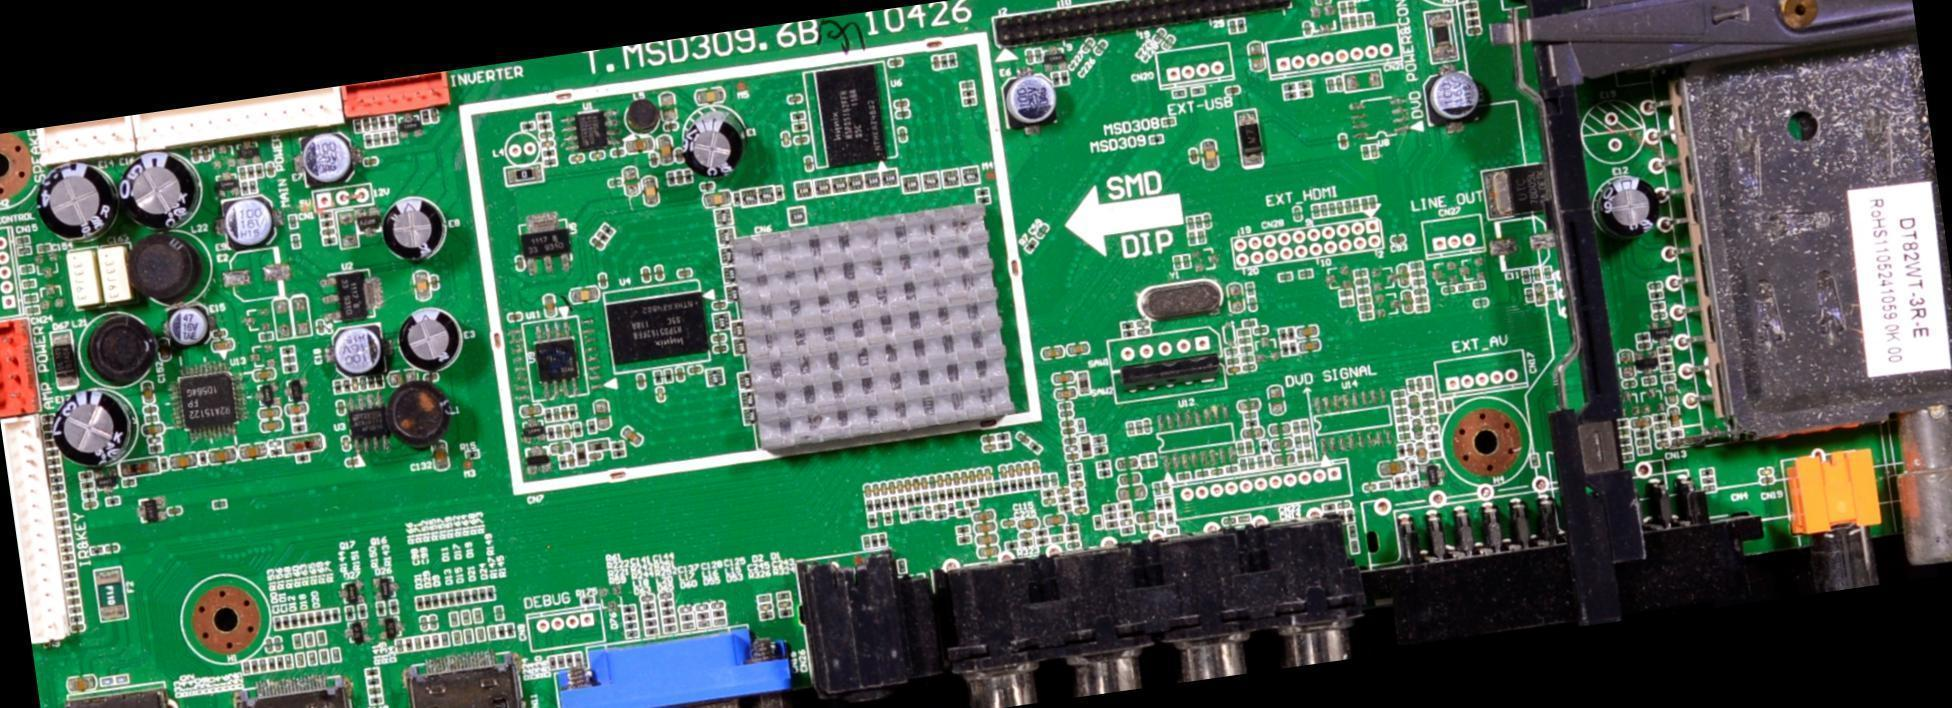Capacitor: (410, 268, 431, 302), (64, 675, 94, 694), (432, 442, 449, 474), (640, 175, 659, 205), (207, 447, 236, 465), (239, 441, 266, 460), (694, 87, 724, 105), (572, 285, 598, 303), (703, 190, 731, 208), (543, 294, 558, 320), (252, 367, 275, 383), (656, 136, 670, 163), (170, 454, 195, 468), (211, 339, 233, 353), (140, 379, 154, 402), (255, 407, 281, 419), (1054, 385, 1075, 400), (1041, 346, 1062, 359), (976, 545, 997, 559), (284, 403, 306, 415), (258, 420, 281, 432), (1298, 325, 1317, 339), (1066, 345, 1088, 356), (1042, 517, 1064, 528), (143, 423, 163, 436), (1015, 530, 1034, 541), (803, 155, 815, 172), (426, 613, 438, 630), (1301, 340, 1318, 351), (1053, 374, 1072, 384), (975, 512, 993, 521), (1020, 519, 1035, 531), (418, 615, 428, 633), (786, 95, 802, 106), (931, 474, 942, 490), (973, 524, 994, 533), (264, 636, 274, 653), (654, 264, 665, 279), (899, 126, 909, 142), (999, 521, 1015, 531), (273, 636, 283, 652), (694, 603, 710, 613), (888, 57, 901, 68), (780, 131, 789, 148), (862, 483, 870, 500), (976, 536, 994, 545), (895, 98, 910, 108), (597, 274, 607, 289), (1073, 507, 1088, 516), (639, 593, 653, 604), (897, 109, 911, 119), (870, 483, 880, 496), (1030, 462, 1039, 475), (929, 56, 939, 70), (588, 152, 603, 161), (640, 267, 649, 282), (776, 600, 791, 609), (997, 467, 1007, 479), (1042, 497, 1055, 506), (710, 601, 722, 611), (568, 155, 581, 164), (910, 478, 919, 491), (941, 473, 950, 487), (984, 468, 992, 481), (894, 481, 902, 494), (1013, 464, 1022, 477), (679, 605, 691, 613), (903, 479, 910, 493), (757, 603, 771, 611), (918, 477, 925, 489), (966, 470, 974, 483), (889, 482, 896, 494), (951, 473, 959, 485), (1022, 464, 1030, 477), (975, 470, 983, 480), (927, 477, 934, 489), (959, 472, 965, 484), (1058, 488, 1070, 494), (660, 592, 672, 599), (1008, 465, 1014, 476), (1069, 482, 1081, 488), (881, 484, 886, 495)
Connector: (0, 413, 81, 650), (991, 0, 1296, 52), (133, 86, 344, 153), (344, 71, 454, 120), (35, 117, 129, 167), (0, 316, 40, 420)
IC: (603, 279, 710, 374), (803, 59, 896, 168), (519, 315, 588, 402), (1150, 404, 1236, 473), (173, 364, 247, 444), (1312, 388, 1395, 455), (323, 267, 384, 326), (517, 217, 572, 273), (348, 394, 396, 458), (561, 107, 617, 152)
Resistor: (684, 165, 693, 189), (953, 534, 972, 545), (89, 545, 104, 557), (535, 110, 552, 122), (961, 96, 978, 107), (1280, 81, 1297, 92), (789, 110, 804, 122), (790, 121, 805, 133), (665, 172, 677, 187), (355, 603, 367, 619), (79, 480, 95, 491), (579, 595, 595, 606), (757, 611, 773, 622), (778, 609, 795, 619), (280, 345, 294, 357), (452, 591, 464, 605), (275, 657, 287, 671), (946, 53, 958, 67), (80, 490, 95, 501), (493, 606, 504, 621), (621, 604, 636, 615), (1282, 90, 1299, 100), (1118, 321, 1134, 331), (912, 492, 922, 508), (475, 587, 486, 603), (953, 525, 970, 535), (1098, 465, 1111, 478), (427, 596, 439, 609), (543, 157, 556, 168), (292, 423, 306, 434), (1092, 434, 1106, 445), (296, 613, 307, 627), (460, 590, 472, 603), (321, 610, 332, 624), (485, 587, 497, 601), (504, 624, 515, 637), (975, 196, 990, 206), (282, 363, 297, 373), (291, 414, 306, 424), (78, 471, 93, 481), (104, 497, 119, 507), (388, 599, 398, 614), (271, 616, 281, 631), (877, 533, 886, 548), (660, 609, 675, 618), (622, 629, 637, 639), (159, 456, 168, 472), (1118, 329, 1134, 337), (321, 236, 334, 247), (567, 407, 578, 419), (1069, 470, 1082, 482), (1163, 500, 1174, 513), (247, 180, 257, 194), (974, 187, 987, 197), (196, 453, 206, 466), (295, 454, 309, 464), (1067, 463, 1080, 473), (888, 496, 898, 510), (867, 514, 876, 527), (313, 611, 323, 625), (1102, 503, 1116, 513), (421, 637, 431, 651), (367, 676, 381, 686), (367, 685, 381, 696), (420, 111, 430, 124), (543, 407, 552, 422), (558, 456, 566, 470), (1040, 489, 1054, 498), (289, 613, 298, 628), (305, 612, 314, 627), (1114, 503, 1129, 511), (364, 667, 379, 676), (386, 114, 395, 129), (368, 697, 384, 706), (353, 120, 362, 134), (538, 120, 550, 130), (1297, 80, 1310, 90), (149, 445, 162, 456), (610, 440, 622, 450), (1093, 444, 1105, 454), (863, 499, 873, 512), (445, 592, 455, 605), (1064, 524, 1077, 534), (641, 611, 654, 621), (622, 614, 635, 623), (1096, 461, 1112, 468), (905, 495, 913, 511), (519, 122, 533, 131), (239, 183, 248, 197), (961, 88, 975, 97), (543, 149, 556, 158), (466, 450, 479, 459), (872, 500, 880, 514), (346, 605, 355, 618), (281, 616, 290, 630), (1035, 538, 1048, 546), (659, 600, 672, 608), (404, 638, 413, 652), (268, 658, 276, 672), (380, 133, 388, 147), (938, 55, 946, 68), (920, 492, 928, 506), (422, 595, 429, 610), (416, 596, 423, 611), (319, 211, 331, 220), (662, 369, 671, 382), (572, 423, 580, 436), (1285, 328, 1294, 341), (1280, 344, 1288, 356), (330, 609, 339, 621), (1034, 530, 1047, 539), (1005, 542, 1017, 551), (642, 603, 655, 612), (364, 133, 372, 146), (255, 163, 263, 177), (319, 220, 332, 228), (498, 625, 506, 638), (566, 655, 574, 668), (378, 115, 386, 128), (652, 370, 661, 381), (976, 485, 985, 496), (1031, 477, 1040, 488), (883, 511, 891, 523), (1073, 497, 1084, 505), (270, 449, 282, 457), (957, 509, 970, 517), (439, 594, 447, 606), (377, 603, 385, 616), (1167, 513, 1174, 525), (625, 623, 637, 631), (549, 657, 556, 670), (586, 420, 595, 431), (1287, 343, 1296, 353), (935, 491, 944, 502), (1016, 481, 1025, 492), (906, 496, 912, 510), (1298, 91, 1310, 98), (1279, 329, 1286, 340), (1007, 480, 1015, 492), (1059, 496, 1070, 504), (471, 591, 478, 602), (1157, 500, 1164, 512), (881, 497, 887, 509), (965, 500, 977, 507), (1020, 541, 1032, 548), (251, 662, 258, 674), (546, 429, 555, 438), (961, 490, 970, 499), (929, 491, 936, 502), (968, 487, 976, 496), (247, 165, 253, 177), (613, 451, 624, 457), (1024, 479, 1031, 490), (896, 498, 904, 507), (1068, 534, 1077, 541), (948, 488, 954, 500), (954, 488, 960, 498), (994, 484, 1000, 494), (1002, 484, 1008, 494), (1073, 491, 1085, 497), (871, 535, 877, 547), (1061, 505, 1069, 510)
Transistor: (523, 447, 551, 481), (518, 417, 544, 446)
